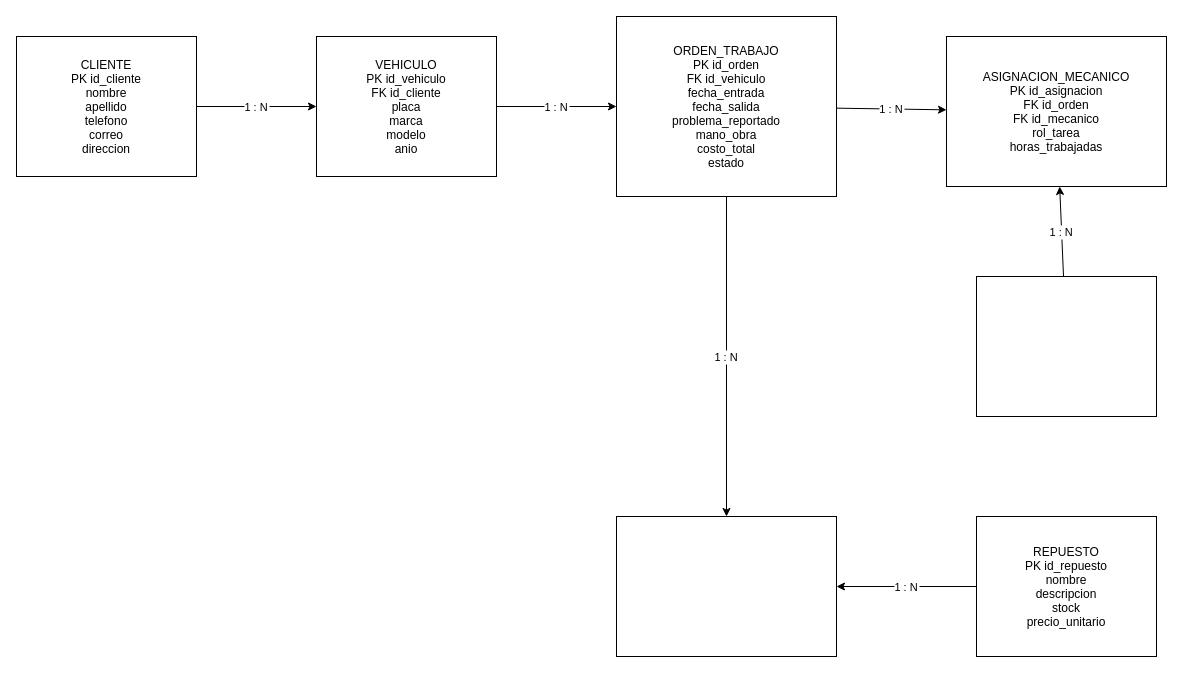
Some shapes in this 1183 by 673 pixel diagram are drawn without their labels. Each missing label, with the centre of its shape:
"DETALLE_REPUESTO PK id_detalle FK id_orden FK id_repuesto cantidad subtotal" goes at point (726, 586).
"MECANICO PK id_mecanico nombre apellido especialidad telefono" goes at point (1066, 346).
